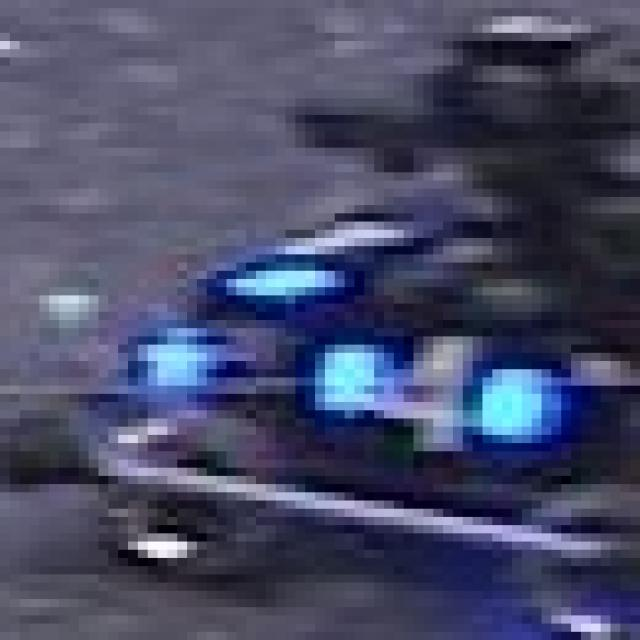B4: (305, 312, 542, 443)
